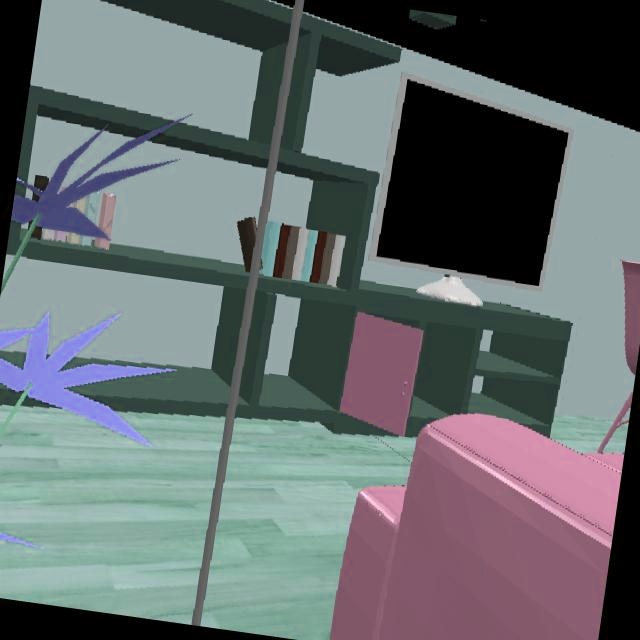book: (261, 224, 344, 286), (70, 192, 116, 237), (43, 230, 109, 249), (237, 217, 257, 271)
bookshelf: (238, 15, 572, 436), (25, 239, 247, 414), (99, 0, 290, 168), (18, 86, 167, 179), (0, 387, 14, 404)
chair: (598, 393, 632, 453), (623, 260, 640, 372)
monitor: (375, 80, 568, 306)
sofa: (331, 415, 623, 640)
